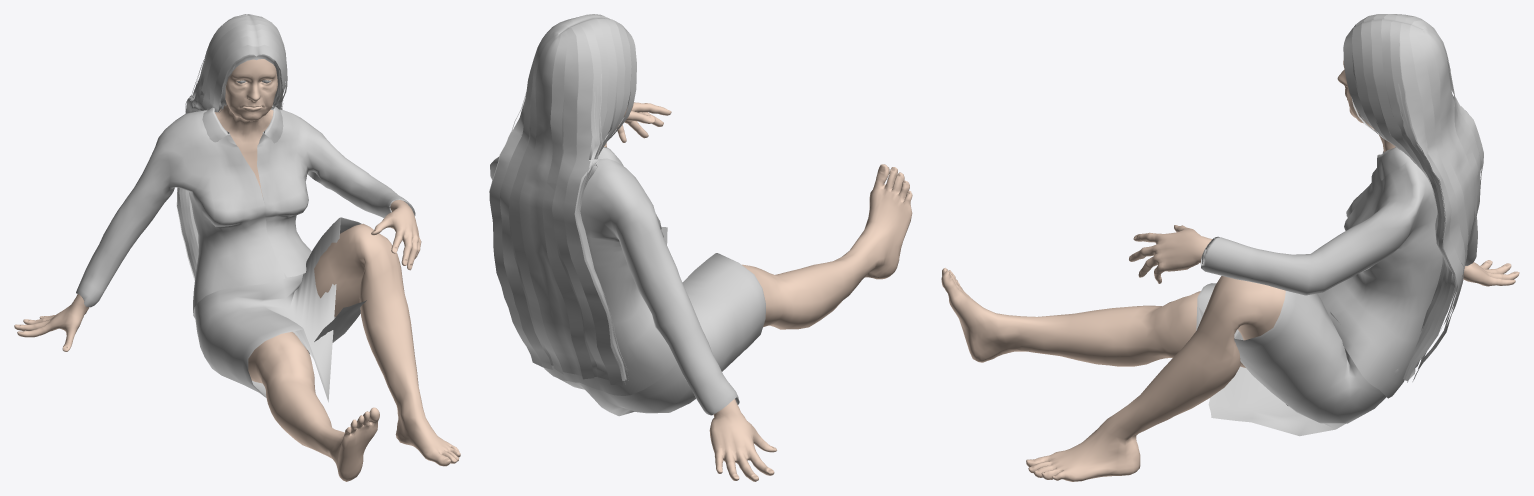
The model's file is female_sit.dae.
The picture shows the model from 3 angles, left to right: view 1: azimuth 30°, elevation 25°; view 2: azimuth 150°, elevation 25°; view 3: azimuth 270°, elevation 25°; orthographic projection. The views are drawn at different scales.
Visible parts, largest first — view 1: female_sit-female_elegantsuit01, female_sit-base, female_sit-long01; view 2: female_sit-long01, female_sit-female_elegantsuit01, female_sit-base; view 3: female_sit-female_elegantsuit01, female_sit-base, female_sit-long01.
Boxes of the visible parts, <box> form: female_sit-female_elegantsuit01: <box>76,105,415,402</box>; female_sit-base: <box>14,59,460,481</box>; female_sit-long01: <box>176,14,287,281</box>; female_sit-long01: <box>489,14,636,385</box>; female_sit-female_elegantsuit01: <box>490,147,765,416</box>; female_sit-base: <box>604,102,912,481</box>; female_sit-female_elegantsuit01: <box>1196,147,1477,436</box>; female_sit-base: <box>941,60,1519,481</box>; female_sit-long01: <box>1343,14,1483,382</box>.
Size of the model in its own units: 0.7137 by 1 by 0.8183.
